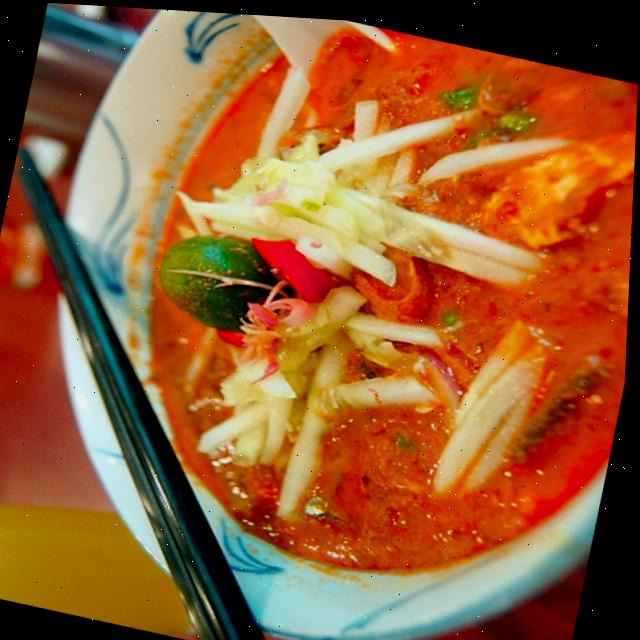面条主食: (66, 4, 640, 615)
